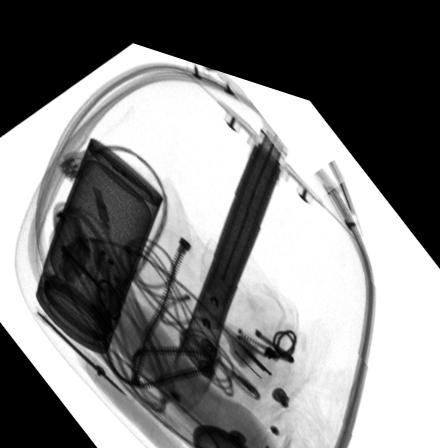Knife: (36, 309, 126, 386)
